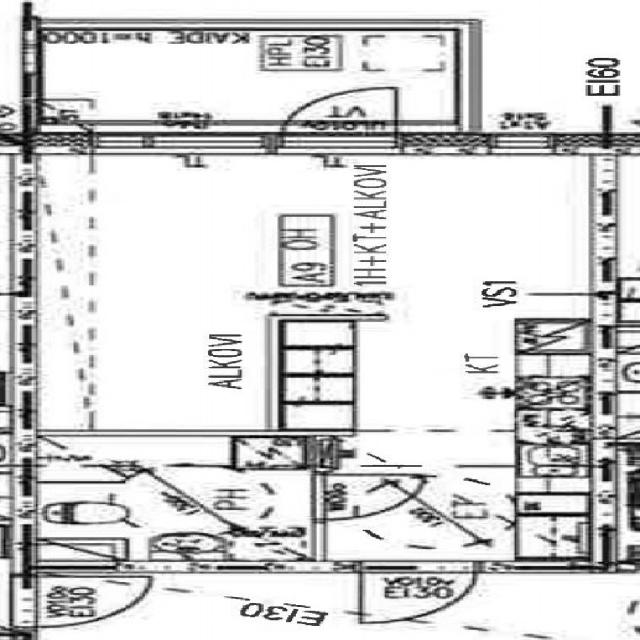door: (282, 83, 394, 154), (360, 562, 474, 623), (313, 475, 426, 520)
